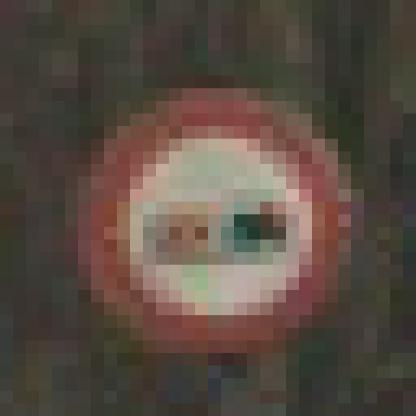No Overtaking: (66, 77, 339, 354)
